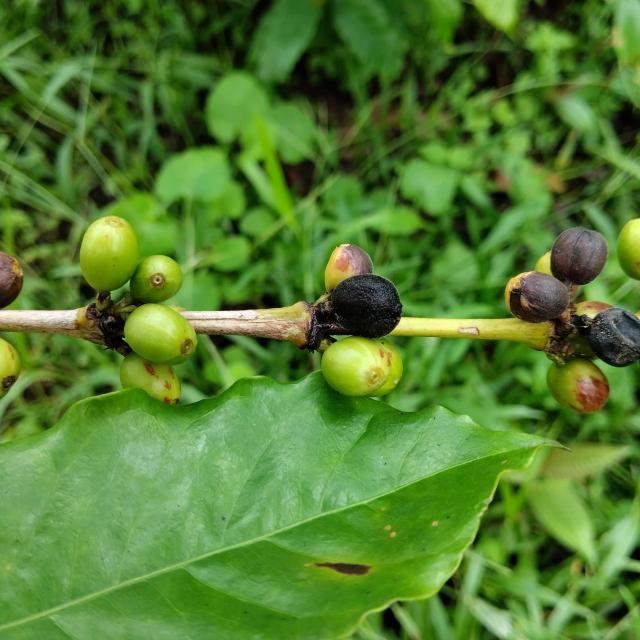green: (123, 303, 197, 366), (79, 215, 138, 292), (321, 336, 391, 396), (119, 352, 181, 405), (129, 255, 182, 303), (370, 338, 403, 397), (619, 218, 640, 280)
red: (331, 274, 402, 338), (551, 227, 609, 290), (548, 357, 611, 413), (506, 271, 571, 323), (588, 308, 640, 367), (325, 244, 374, 292), (0, 251, 22, 309)
